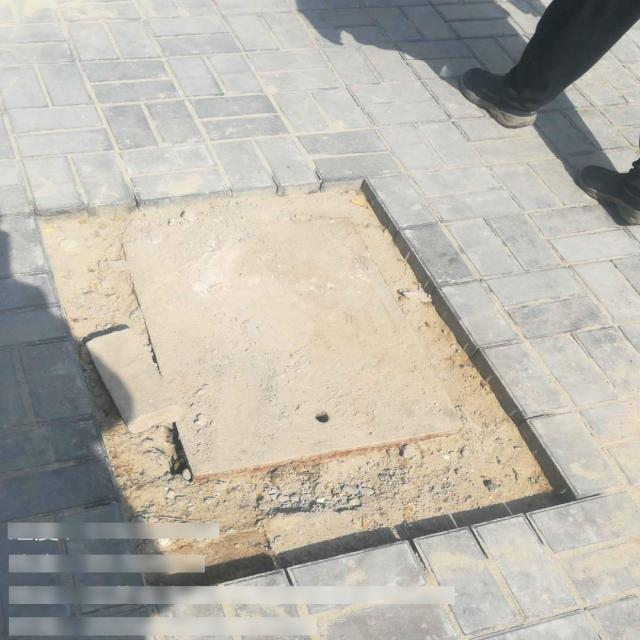Faulty: (34, 194, 568, 540)
